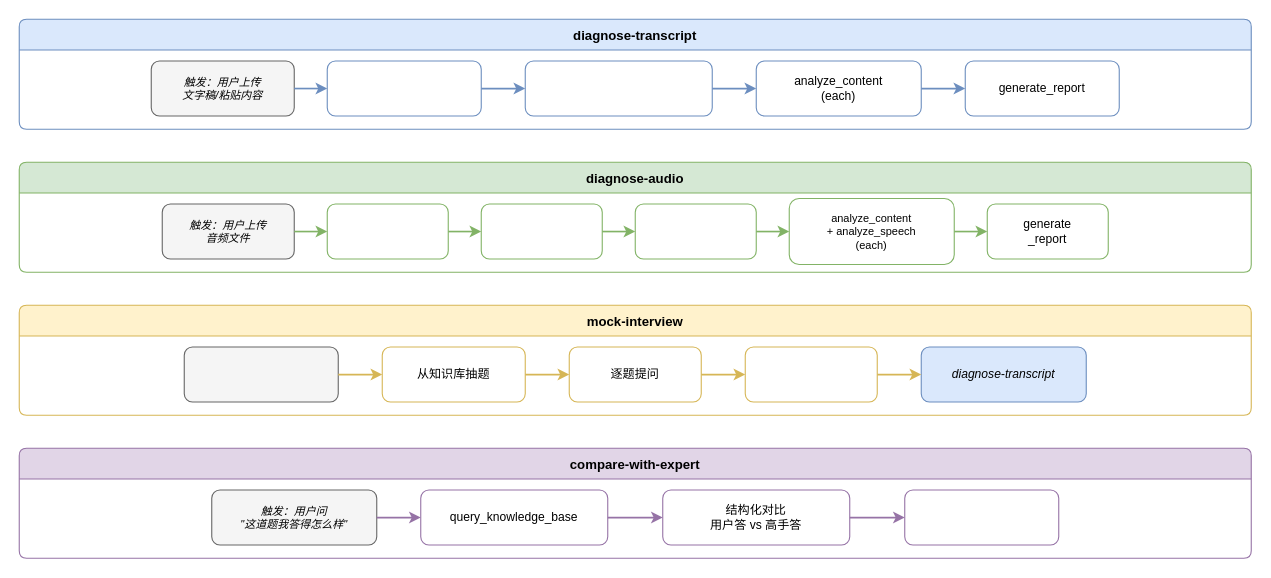
Some shapes in this 1271 by 578 pixel diagram are drawn without their labels. The shapes that lost their labels are listed below. From the top down, each one's centre as x and y in pixels, then its label:
(x=403, y=88): split_qa_pairs
(x=618, y=88): query_knowledge_base (each)
(x=387, y=231): transcribe _audio
(x=541, y=231): detect _speakers
(x=695, y=231): split_qa _pairs
(x=260, y=374): 触发：用户说 "模拟面试""练一下"
(x=810, y=374): 收集回答
(x=981, y=517): 输出差距分析
